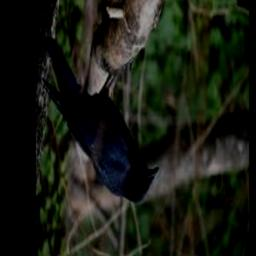Crow: (39, 33, 159, 204)
